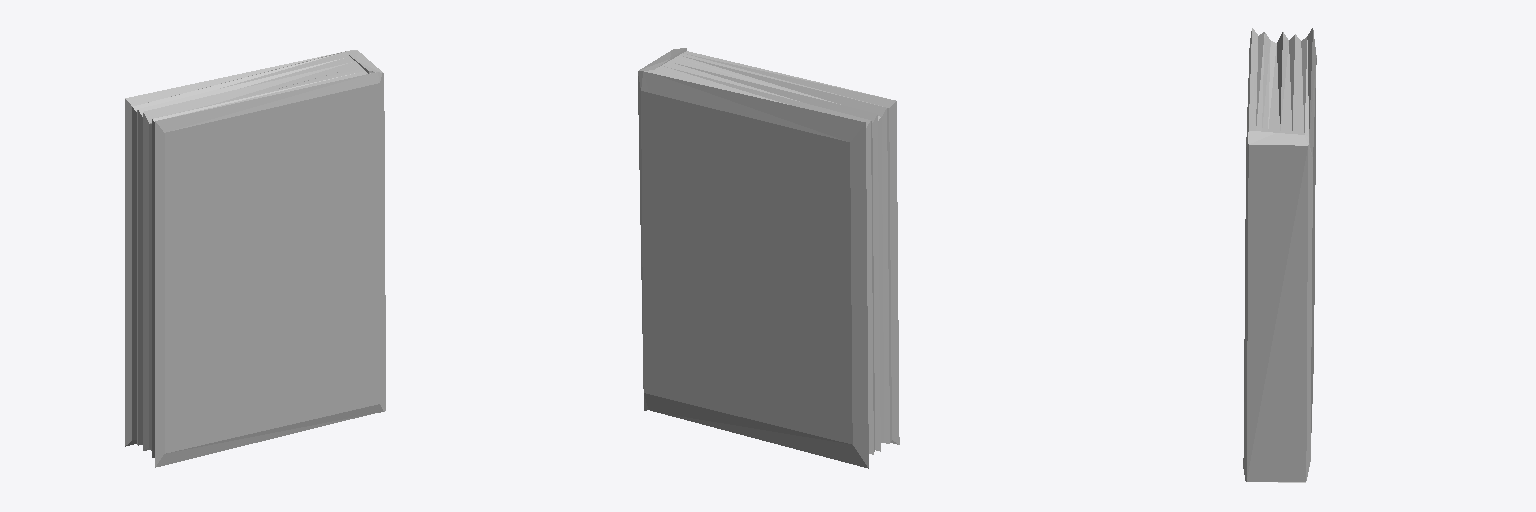
Rendered from boek !!!!!!!!!!!!!!!!!!!!!!!!!!!.obj.
The picture shows the model from 3 angles: view 1: azimuth 30°, elevation 25°; view 2: azimuth 150°, elevation 25°; view 3: azimuth 270°, elevation 25°; orthographic projection.
Visible parts, largest first — view 1: Cube.009_Cube.013; view 2: Cube.009_Cube.013; view 3: Cube.009_Cube.013.
Boxes of the visible parts, x1=… form: Cube.009_Cube.013: x1=125, y1=50, x2=385, y2=467; Cube.009_Cube.013: x1=638, y1=48, x2=899, y2=468; Cube.009_Cube.013: x1=1243, y1=28, x2=1316, y2=482.
Size of the model in its own units: 0.9389 by 1.34 by 0.2561.